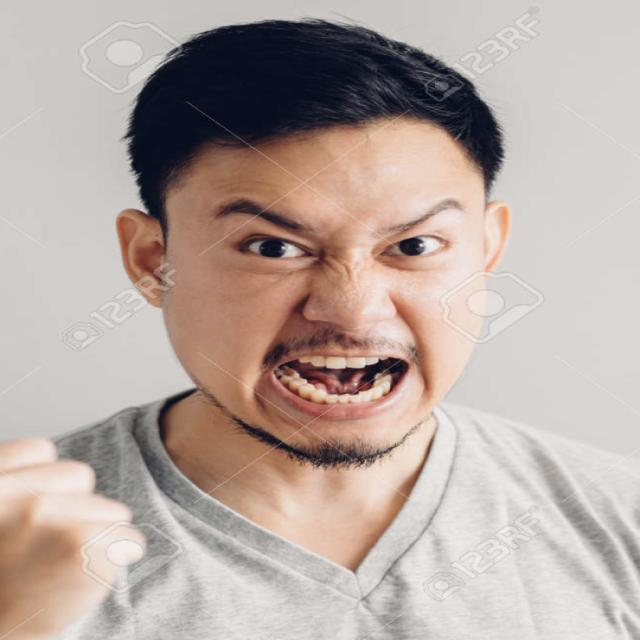angry: (207, 183, 479, 442)
